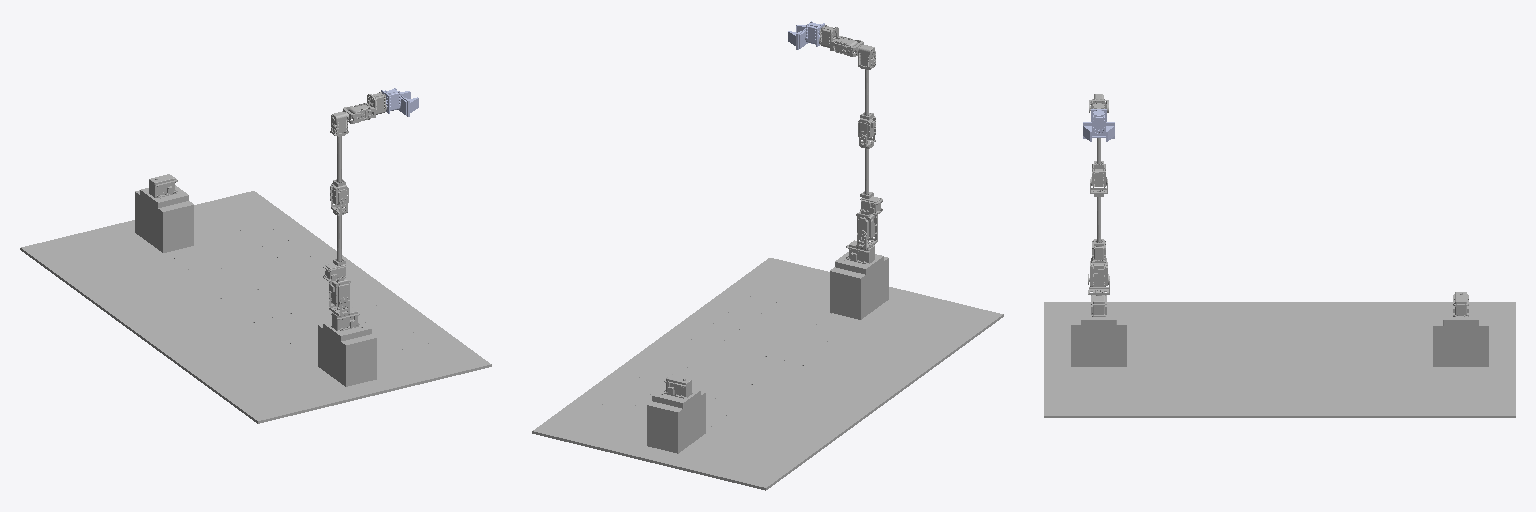
URDF robot description (edy_dualarm_description):
<robot
  name="edy_dualarm_description">

  <link name="root">
    <visual>
      <origin xyz="0 0 0" rpy="0 0 0" />
      <geometry>
        <box size = "0.0 0.0 0.0"/>
      </geometry>
    </visual>
    <collision>
      <origin xyz="0 0 0" rpy="0 0 0" />
      <geometry>
        <box size = "0.0 0.0 0.0"/> 
      </geometry>
    </collision>     
  </link>

  <!-- Used for fixing robot to Gazebo 'base_link' -->
  <link name="world"/> 
  <joint name="connect_root_and_world" type="fixed">
    <parent link="world"/>
    <child link="root"/>
    <axis xyz="0 0 0"/>
    <origin xyz="0 0 0" rpy="0 0 0" />  
  </joint>

  <joint name="root_to_base_link" type="fixed">
    <parent link="root"/>
    <child link="base_link"/>
    <axis xyz="0 0 0"/>
    <origin xyz="0 0 0" rpy="0 0 0" />  
  </joint>

  <link
    name="base_link">
    <inertial>
      <origin
        xyz="-8.44479065753578E-05 -0.000636180312193479 0.0212601142172631"
        rpy="0 0 0" />
      <mass
        value="8.7560068616092" />
      <inertia
        ixx="1.28219832311"
        ixy="-0.00000079180"
        ixz="-0.00011062669"
        iyy="0.21742745749"
        iyz="-0.00059423128"
        izz="1.47062786997" />
    </inertial>
    <visual>
      <origin
        xyz="0 0 0"
        rpy="0 0 0" />
      <geometry>
        <mesh
          filename="package://edy_dualarm_description/meshes/base_link.STL" />
      </geometry>
      <material
        name="">
        <color
          rgba="0.752941176470588 0.752941176470588 0.752941176470588 1" />
      </material>
    </visual>
    <collision>
      <origin
        xyz="0 0 0"
        rpy="0 0 0" />
      <geometry>
        <mesh
          filename="package://edy_dualarm_description/meshes/base_link.STL" />
      </geometry>
    </collision>
  </link>
  <link
    name="l_link_2">
    <inertial>
      <origin
        xyz="1.16549826041368E-05 -2.81399161389806E-05 0.0188265358893286"
        rpy="0 0 0" />
      <mass
        value="0.0114364854550291" />
      <inertia
        ixx="0.00000810165"
        ixy="0.00000001592"
        ixz="-0.00000000221"
        iyy="0.00000390726"
        iyz="0.00000000534"
        izz="0.00000615502" />
    </inertial>
    <visual>
      <origin
        xyz="0 0 0"
        rpy="0 0 0" />
      <geometry>
        <mesh
          filename="package://edy_dualarm_description/meshes/l_link_2.STL" />
      </geometry>
      <material
        name="">
        <color
          rgba="0.752941176470588 0.752941176470588 0.752941176470588 1" />
      </material>
    </visual>
    <collision>
      <origin
        xyz="0 0 0"
        rpy="0 0 0" />
      <geometry>
        <mesh
          filename="package://edy_dualarm_description/meshes/l_link_2.STL" />
      </geometry>
    </collision>
  </link>
  <joint
    name="l_joint_1"
    type="revolute">
    <origin
      xyz="-0.022394 -0.45 0.1679"
      rpy="0 0 0" />
    <parent
      link="base_link" />
    <child
      link="l_link_2" />
    <axis
      xyz="0 0 1" />
    <limit
      lower="-3.14"
      upper="3.14"
      effort="6"
      velocity="2" />
  </joint>
  <link
    name="l_link_3">
    <inertial>
      <origin
        xyz="0.00377950923156622 0.000527304140237717 -0.0366688121472651"
        rpy="0 0 0" />
      <mass
        value="0.131859897677232" />
      <inertia
        ixx="0.00015053028"
        ixy="-0.00000001139"
        ixz="-0.00001916044"
        iyy="0.00015092294"
        iyz="-0.00000034244"
        izz="0.00003716729" />
    </inertial>
    <visual>
      <origin
        xyz="0 0 0"
        rpy="0 0 0" />
      <geometry>
        <mesh
          filename="package://edy_dualarm_description/meshes/l_link_3.STL" />
      </geometry>
      <material
        name="">
        <color
          rgba="0.752941176470588 0.752941176470588 0.752941176470588 1" />
      </material>
    </visual>
    <collision>
      <origin
        xyz="0 0 0"
        rpy="0 0 0" />
      <geometry>
        <mesh
          filename="package://edy_dualarm_description/meshes/l_link_3.STL" />
      </geometry>
    </collision>
  </link>
  <joint
    name="l_joint_2"
    type="revolute">
    <origin
      xyz="0 0 0.0395"
      rpy="3.1416 0 3.1416" />
    <parent
      link="l_link_2" />
    <child
      link="l_link_3" />
    <axis
      xyz="0 1 0" />
    <limit
      lower="-1.57"
      upper="1.57"
      effort="6"
      velocity="2" />
  </joint>
  <link
    name="l_link_4">
    <inertial>
      <origin
        xyz="-2.03305933710318E-06 4.62434070702678E-07 0.08981065169112"
        rpy="0 0 0" />
      <mass
        value="0.0241054510624508" />
      <inertia
        ixx="0.00008394342"
        ixy="0.00"
        ixz="0.00000000430"
        iyy="0.00008259216"
        iyz="0.00000000076"
        izz="0.00000285999" />
    </inertial>
    <visual>
      <origin
        xyz="0 0 0"
        rpy="0 0 0" />
      <geometry>
        <mesh
          filename="package://edy_dualarm_description/meshes/l_link_4.STL" />
      </geometry>
      <material
        name="">
        <color
          rgba="0.752941176470588 0.752941176470588 0.752941176470588 1" />
      </material>
    </visual>
    <collision>
      <origin
        xyz="0 0 0"
        rpy="0 0 0" />
      <geometry>
        <mesh
          filename="package://edy_dualarm_description/meshes/l_link_4.STL" />
      </geometry>
    </collision>
  </link>
  <joint
    name="l_joint_3"
    type="revolute">
    <origin
      xyz="0 0.0005 -0.093245"
      rpy="3.1416 0 3.1416" />
    <parent
      link="l_link_3" />
    <child
      link="l_link_4" />
    <axis
      xyz="0 0 1" />
    <limit
      lower="-3.14"
      upper="3.14"
      effort="6"
      velocity="2" />
  </joint>
  <link
    name="l_link_5">
    <inertial>
      <origin
        xyz="-1.06226888885175E-05 0.000270564059653838 -0.044082243378421"
        rpy="0 0 0" />
      <mass
        value="0.10694" />
      <inertia
        ixx="0.00091666924"
        ixy="0.00000000188"
        ixz="-0.00000439289"
        iyy="0.00091692418"
        iyz="-0.00000016121"
        izz="0.00001598568" />
    </inertial>
    <visual>
      <origin
        xyz="0 0 0"
        rpy="0 0 0" />
      <geometry>
        <mesh
          filename="package://edy_dualarm_description/meshes/l_link_5.STL" />
      </geometry>
      <material
        name="">
        <color
          rgba="0.752941176470588 0.752941176470588 0.752941176470588 1" />
      </material>
    </visual>
    <collision>
      <origin
        xyz="0 0 0"
        rpy="0 0 0" />
      <geometry>
        <mesh
          filename="package://edy_dualarm_description/meshes/l_link_5.STL" />
      </geometry>
    </collision>
  </link>
  <joint
    name="l_joint_4"
    type="revolute">
    <origin
      xyz="0 0 0.176"
      rpy="3.1416 0 0" />
    <parent
      link="l_link_4" />
    <child
      link="l_link_5" />
    <axis
      xyz="0 1 0" />
    <limit
      lower="-1.57"
      upper="1.57"
      effort="6"
      velocity="2" />
  </joint>
  <link
    name="l_link_6">
    <inertial>
      <origin
        xyz="-3.18818024536149E-07 2.26992259699799E-06 0.0109195452878323"
        rpy="0 0 0" />
      <mass
        value="0.00729134298782244" />
      <inertia
        ixx="0.00000122580"
        ixy="0.00"
        ixz="-0.00000000003"
        iyy="0.00000323550"
        iyz="-0.00000000016"
        izz="0.00000287654" />
    </inertial>
    <visual>
      <origin
        xyz="0 0 0"
        rpy="0 0 0" />
      <geometry>
        <mesh
          filename="package://edy_dualarm_description/meshes/l_link_6.STL" />
      </geometry>
      <material
        name="">
        <color
          rgba="0.752941176470588 0.752941176470588 0.752941176470588 1" />
      </material>
    </visual>
    <collision>
      <origin
        xyz="0 0 0"
        rpy="0 0 0" />
      <geometry>
        <mesh
          filename="package://edy_dualarm_description/meshes/l_link_6.STL" />
      </geometry>
    </collision>
  </link>
  <joint
    name="l_joint_5"
    type="revolute">
    <origin
      xyz="0.02087 0.00025 -0.2213"
      rpy="-1.5708 0 -1.5708" />
    <parent
      link="l_link_5" />
    <child
      link="l_link_6" />
    <axis
      xyz="0 0 1" />
    <limit
      lower="-3.14"
      upper="3.14"
      effort="6"
      velocity="2" />
  </joint>
  <link
    name="l_link_7">
    <inertial>
      <origin
        xyz="-0.000229999999992903 -0.0050249094346575 0.0429672230397742"
        rpy="0 0 0" />
      <mass
        value="0.09304" />
      <inertia
        ixx="0.00008300957"
        ixy="-0.00000022060"
        ixz="0.00000107176"
        iyy="0.00007577402"
        iyz="-0.00001375580"
        izz="0.00002337891" />
    </inertial>
    <visual>
      <origin
        xyz="0 0 0"
        rpy="0 0 0" />
      <geometry>
        <mesh
          filename="package://edy_dualarm_description/meshes/l_link_7.STL" />
      </geometry>
      <material
        name="">
        <color
          rgba="0.752941176470588 0.752941176470588 0.752941176470588 1" />
      </material>
    </visual>
    <collision>
      <origin
        xyz="0 0 0"
        rpy="0 0 0" />
      <geometry>
        <mesh
          filename="package://edy_dualarm_description/meshes/l_link_7.STL" />
      </geometry>
    </collision>
  </link>
  <joint
    name="l_joint_6"
    type="revolute">
    <origin
      xyz="0 0 0.026"
      rpy="0 0 3.1416" />
    <parent
      link="l_link_6" />
    <child
      link="l_link_7" />
    <axis
      xyz="1 0 0" />
    <limit
      lower="-1.57"
      upper="1.57"
      effort="6"
      velocity="2" />
  </joint>
  <link
    name="l_link_8">
    <inertial>
      <origin
        xyz="-2.44942954807925E-13 0.0106481613936442 0.00198661888805018"
        rpy="0 0 0" />
      <mass
        value="0.04788" />
      <inertia
        ixx="0.00001520287"
        ixy="0.00000001101"
        ixz="0.00000000425"
        iyy="0.00000927752"
        iyz="0.00000007211"
        izz="0.00001238747" />
    </inertial>
    <visual>
      <origin
        xyz="0 0 0"
        rpy="0 0 0" />
      <geometry>
        <mesh
          filename="package://edy_dualarm_description/meshes/l_link_8.STL" />
      </geometry>
      <material
        name="">
        <color
          rgba="0.792156862745098 0.819607843137255 0.933333333333333 1" />
      </material>
    </visual>
    <collision>
      <origin
        xyz="0 0 0"
        rpy="0 0 0" />
      <geometry>
        <mesh
          filename="package://edy_dualarm_description/meshes/l_link_8.STL" />
      </geometry>
    </collision>
  </link>
  <joint
    name="l_joint_7"
    type="revolute">
    <origin
      xyz="-0.00023 0 0.08337"
      rpy="0 0 3.1416" />
    <parent
      link="l_link_7" />
    <child
      link="l_link_8" />
    <axis
      xyz="0 0 1" />
    <limit
      lower="-3.14"
      upper="3.14"
      effort="6"
      velocity="2" />
  </joint>
  <link
    name="l_link_9">
    <inertial>
      <origin
        xyz="2.29594121492482E-13 2.02513058054077E-05 0.0140853523121591"
        rpy="0 0 0" />
      <mass
        value="0.04238" />
      <inertia
        ixx="0.00001004655"
        ixy="0.00"
        ixz="0.00"
        iyy="0.00003436417"
        iyz="-0.00000000968"
        izz="0.00003361882" />
    </inertial>
    <visual>
      <origin
        xyz="0 0 0"
        rpy="0 0 0" />
      <geometry>
        <mesh
          filename="package://edy_dualarm_description/meshes/l_link_9.STL" />
      </geometry>
      <material
        name="">
        <color
          rgba="0.792156862745098 0.819607843137255 0.933333333333333 1" />
      </material>
    </visual>
    <collision>
      <origin
        xyz="0 0 0"
        rpy="0 0 0" />
      <geometry>
        <mesh
          filename="package://edy_dualarm_description/meshes/l_link_9.STL" />
      </geometry>
    </collision>
  </link>
  <joint
    name="l_joint_8"
    type="revolute">
    <origin
      xyz="0 0 0.039"
      rpy="0 0 3.1416" />
    <parent
      link="l_link_8" />
    <child
      link="l_link_9" />
    <axis
      xyz="0 0 1" />
    <limit
      lower="-3.14"
      upper="3.14"
      effort="6"
      velocity="2" />
  </joint>
  <link
    name="l_link_eef" />
  <joint
    name="l_joint_eef"
    type="fixed">
    <origin
      xyz="0 0 0.06739"
      rpy="0 0 0" />
    <parent
      link="l_link_8" />
    <child
      link="l_link_eef" />
    <axis
      xyz="0 0 0" />
  </joint>
</robot>

--- What the picture shows (computed from the rendered views, not written in the file) ---
3 views of the same robot in one strip: view 1: azimuth 30°, elevation 25°; view 2: azimuth 150°, elevation 25°; view 3: azimuth 270°, elevation 25° (orthographic).
Robot: edy_dualarm_description — 12 links, 11 joints (8 revolute, 3 fixed); root link world; default pose: every joint at zero.
Visible links, largest first — view 1: base_link, l_link_5, l_link_3, l_link_7; view 2: base_link, l_link_5, l_link_3, l_link_7; view 3: base_link, l_link_3.
Boxes of the visible links, x1,y1,x2,y2 form: base_link: (20, 174, 491, 423); l_link_5: (330, 111, 348, 206); l_link_3: (323, 263, 350, 307); l_link_7: (348, 92, 386, 120); base_link: (532, 240, 1003, 490); l_link_5: (858, 45, 875, 139); l_link_3: (856, 196, 882, 240); l_link_7: (819, 25, 857, 54); base_link: (1044, 292, 1515, 417); l_link_3: (1090, 240, 1107, 286).
Bounding box of the posed robot: 0.665 × 1.17 × 0.7494 m (x, y, z).
Meshes: 9 distinct files referenced, 9 mesh visuals loaded (9 binary STL).
